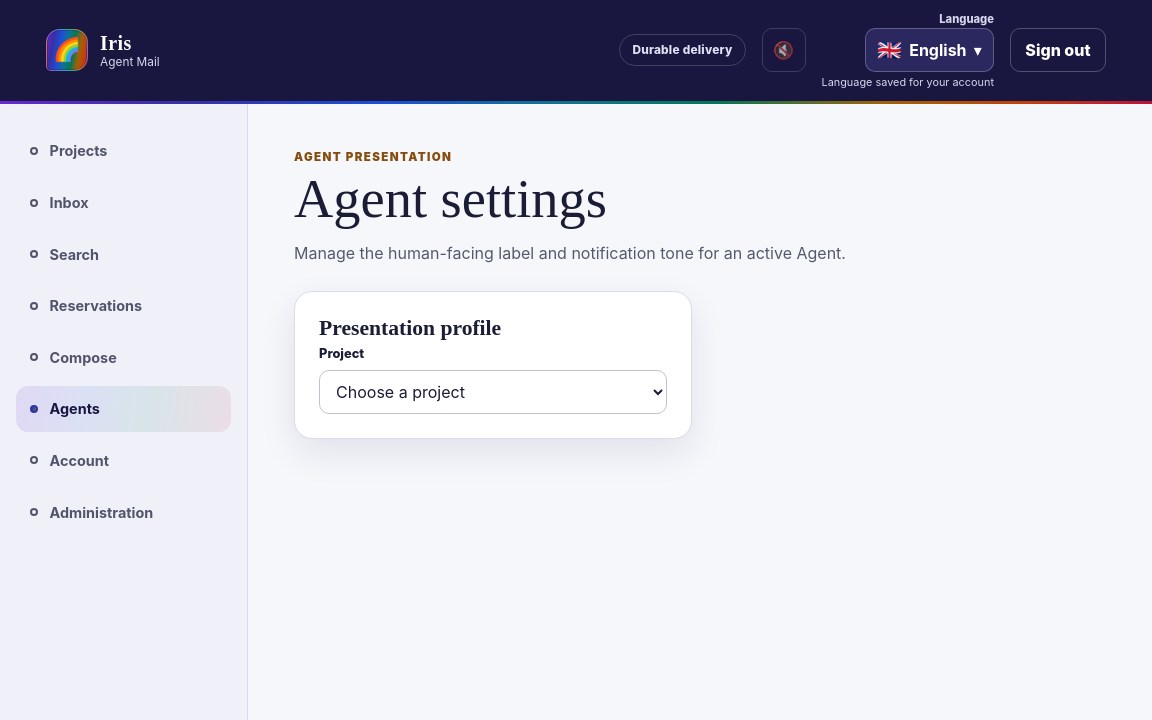
Iris landing shell › reports a failed or empty Agent directory without exposing server detail
Check: the text "Language saved for your account" is shown, box [822,75,994,89]
Select "/mateusz-klatt/mcp_agent_mail" in the dropdown labelled "Project" at (493, 392), box [319,370,667,414]
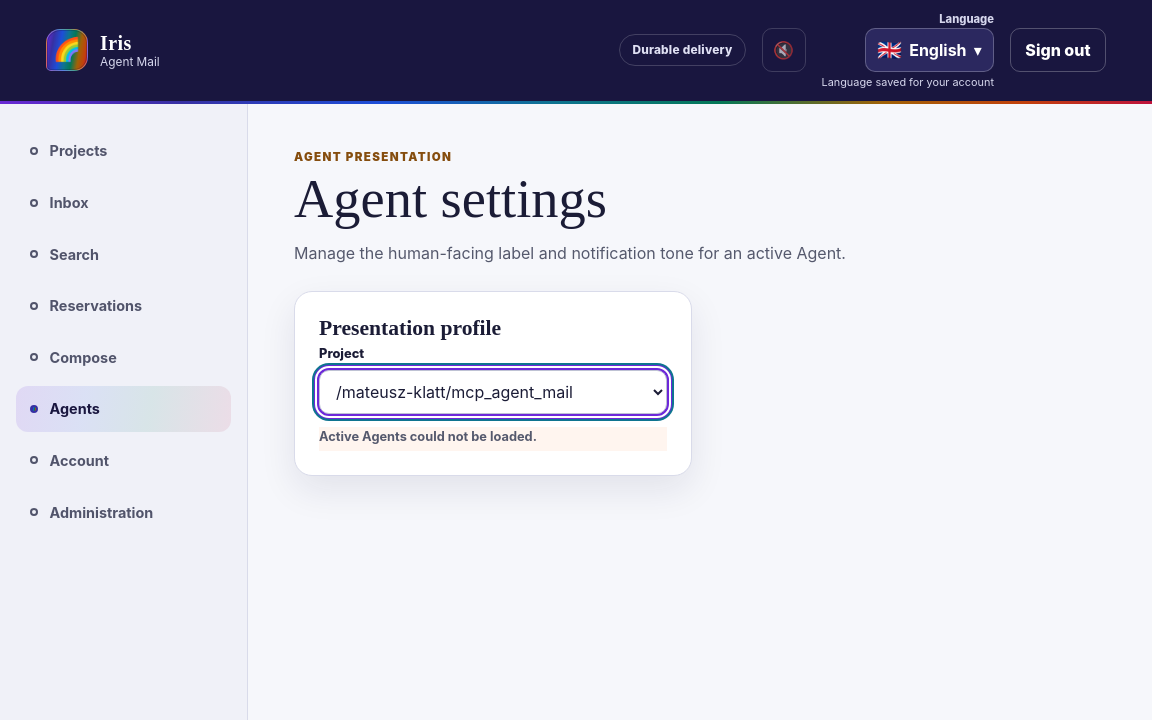
Check: the text "Active Agents could not be loaded." is shown, box [319,427,667,451]
Select "Choose a project" in the dropdown labelled "Project" at (493, 392), box [319,370,667,414]
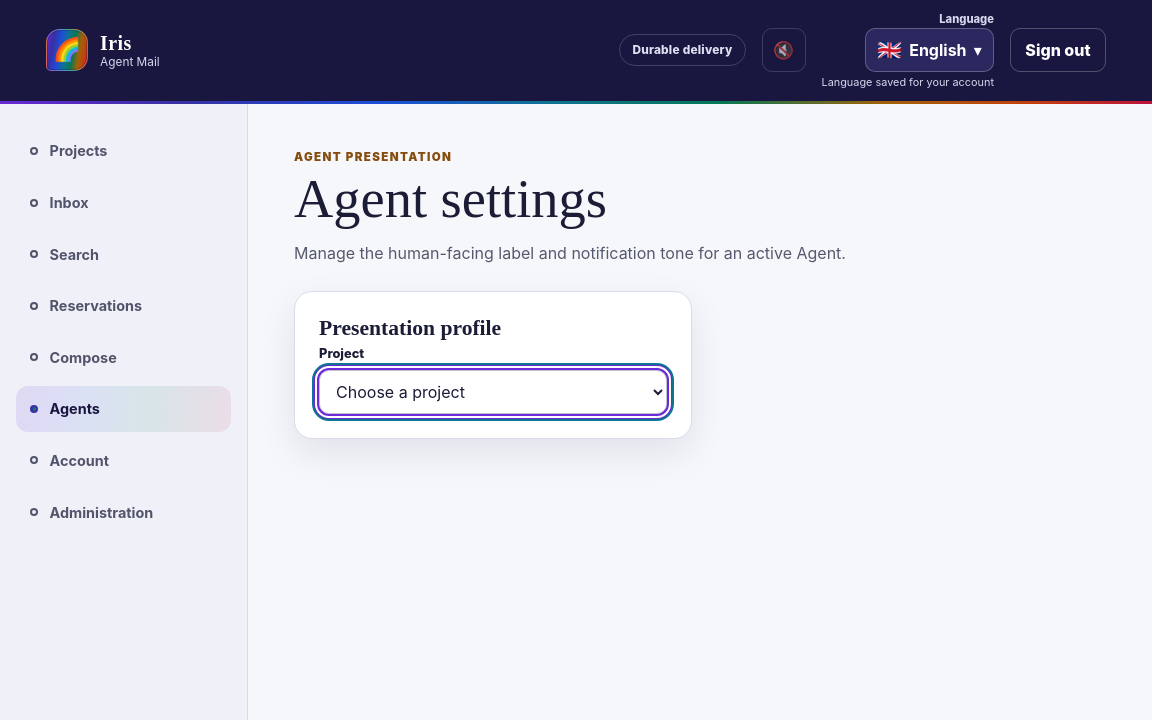
Select "/mateusz-klatt/mcp_agent_mail" in the dropdown labelled "Project" at (493, 392), box [319,370,667,414]
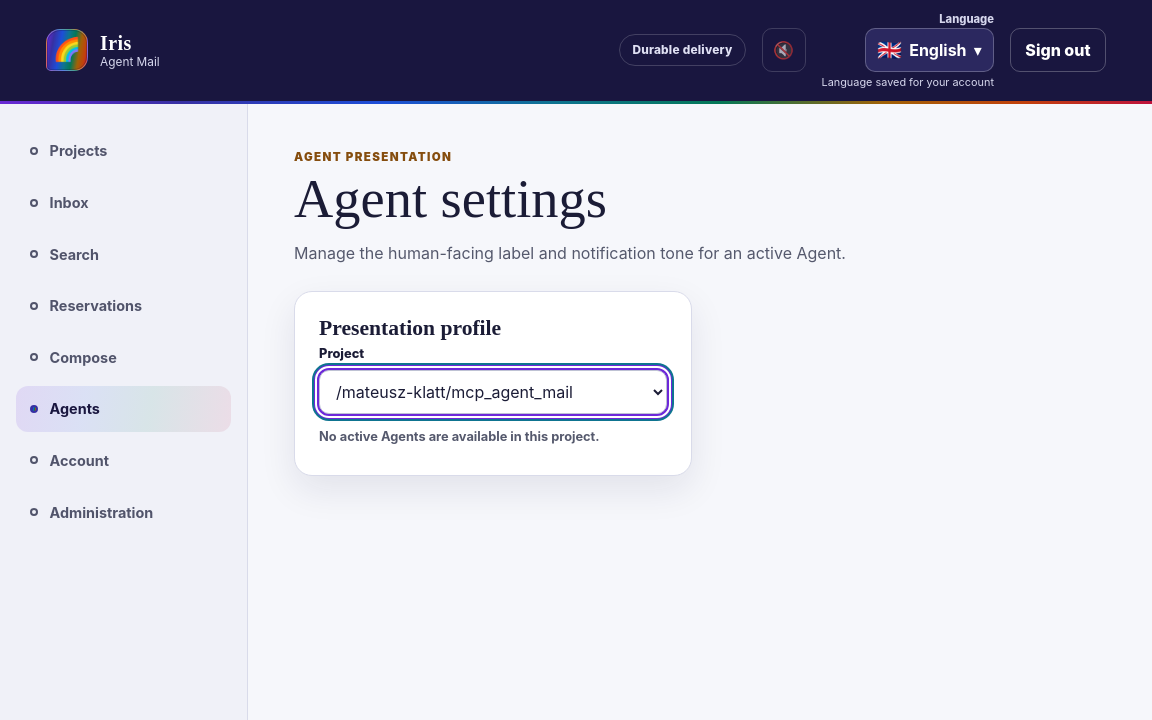
Check: the text "No active Agents are available in this project." is shown, box [319,429,600,444]
